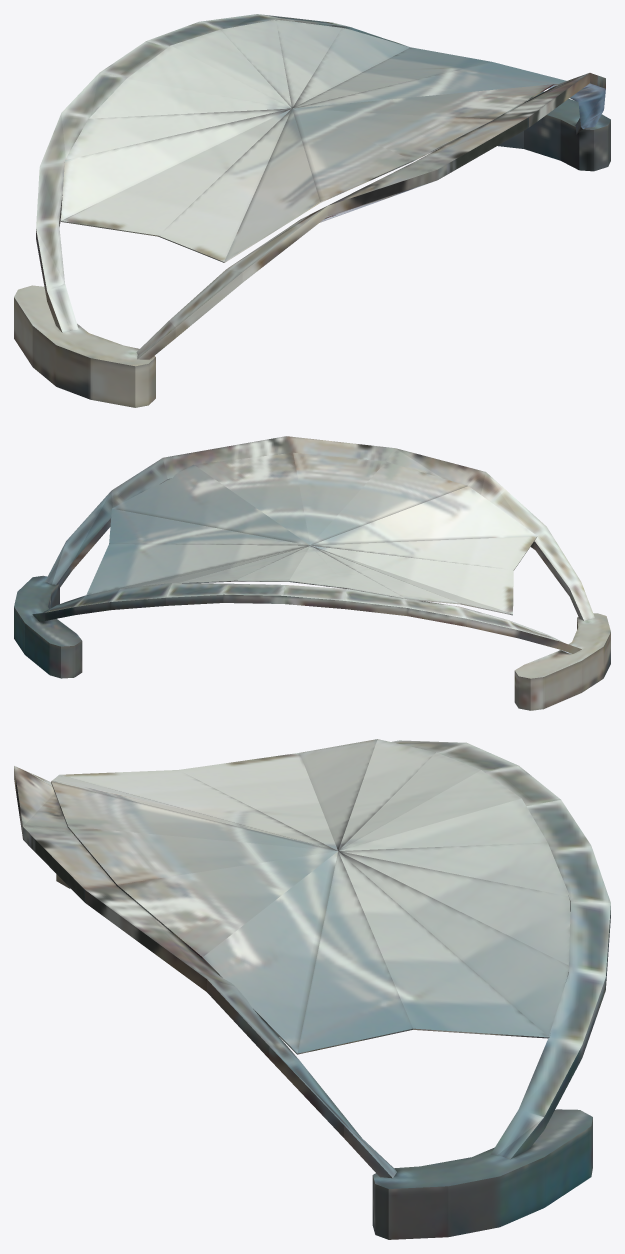
3 views of the same model, one above another, from view 1: azimuth 30°, elevation 25°; view 2: azimuth 150°, elevation 25°; view 3: azimuth 270°, elevation 25° (orthographic). The views are drawn at different scales.
Visible parts, largest first — view 1: 5_0.glb_1; view 2: 5_0.glb_1; view 3: 5_0.glb_1.
Part boxes in pixels (left/top/right/bottom): 5_0.glb_1: left=14, top=14, right=610, bottom=407; 5_0.glb_1: left=14, top=436, right=610, bottom=710; 5_0.glb_1: left=14, top=739, right=610, bottom=1239.
Bounding box in the file's own units: 31.98 × 8.69 × 20.74.
Materials: 2 (2 with a texture image).
